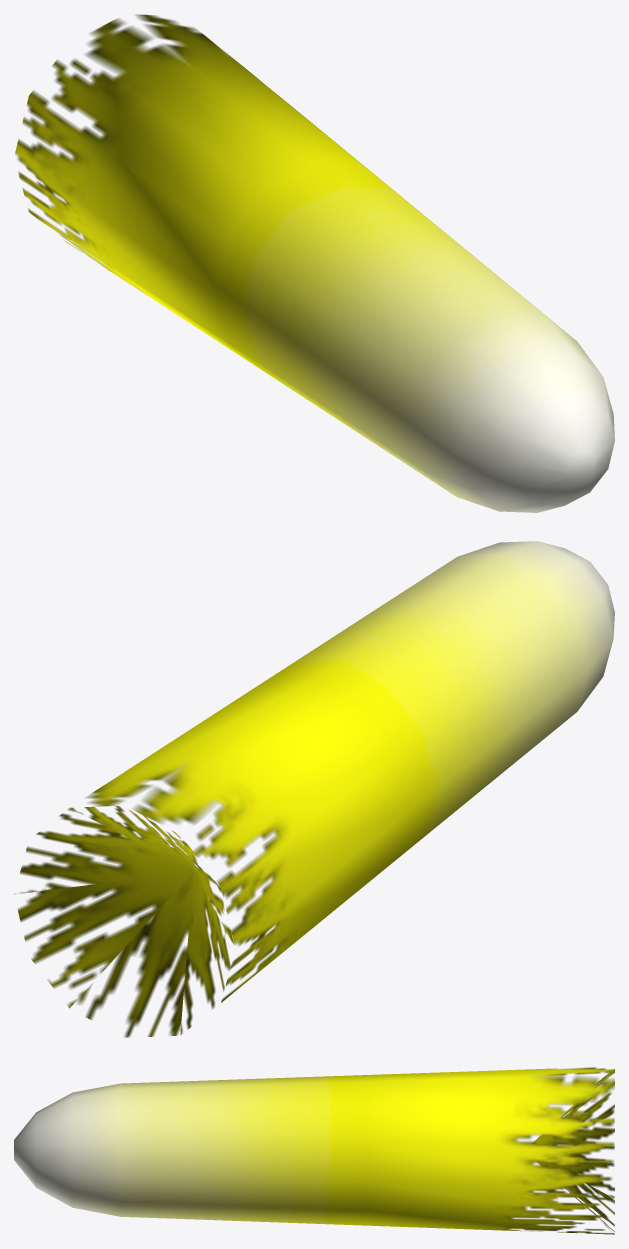
Rendered from iajd.hrc.gltf.
The picture shows the model from 3 angles, top to bottom: view 1: azimuth 30°, elevation 25°; view 2: azimuth 150°, elevation 25°; view 3: azimuth 270°, elevation 25°; orthographic projection. The views are drawn at different scales.
Parts seen in each view (by area): view 1: iajdBone0_null; view 2: iajdBone0_null; view 3: iajdBone0_null.
Part boxes in pixels (bbox=[...]): iajdBone0_null: bbox=[15, 14, 614, 512]; iajdBone0_null: bbox=[14, 541, 614, 1037]; iajdBone0_null: bbox=[14, 1067, 614, 1234].
Size of the model in its own units: 31.17 by 31.17 by 111.
Materials: 1 (1 with a texture image).
